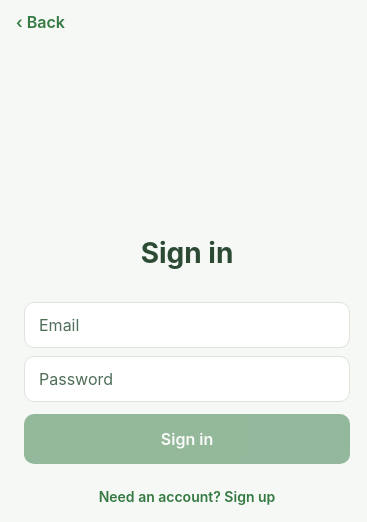
Test: toggling "Need an account? Sign up" switches mode locally without navigating
Click the text "Need an account? Sign up".
click(187, 496)  # box [99,488,275,504]
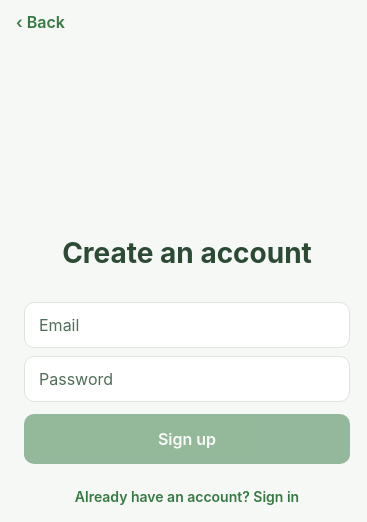
Expected: the text "Create an account" is shown, [62,236,312,270]
